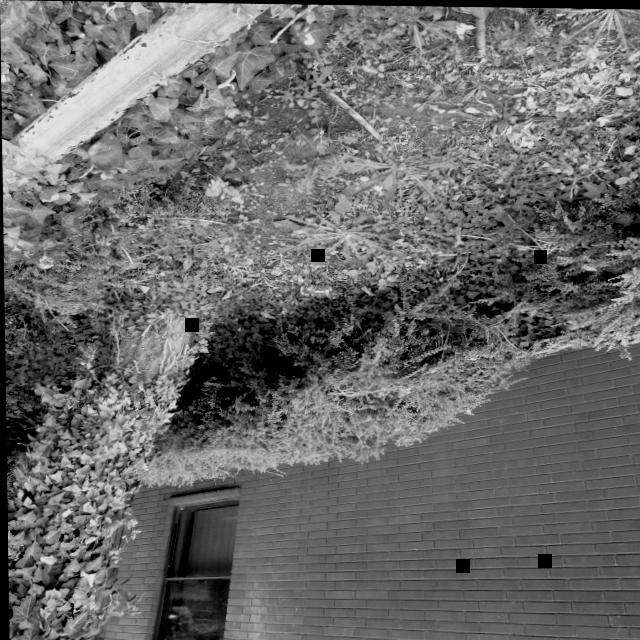Drink can: (299, 283, 331, 295)
